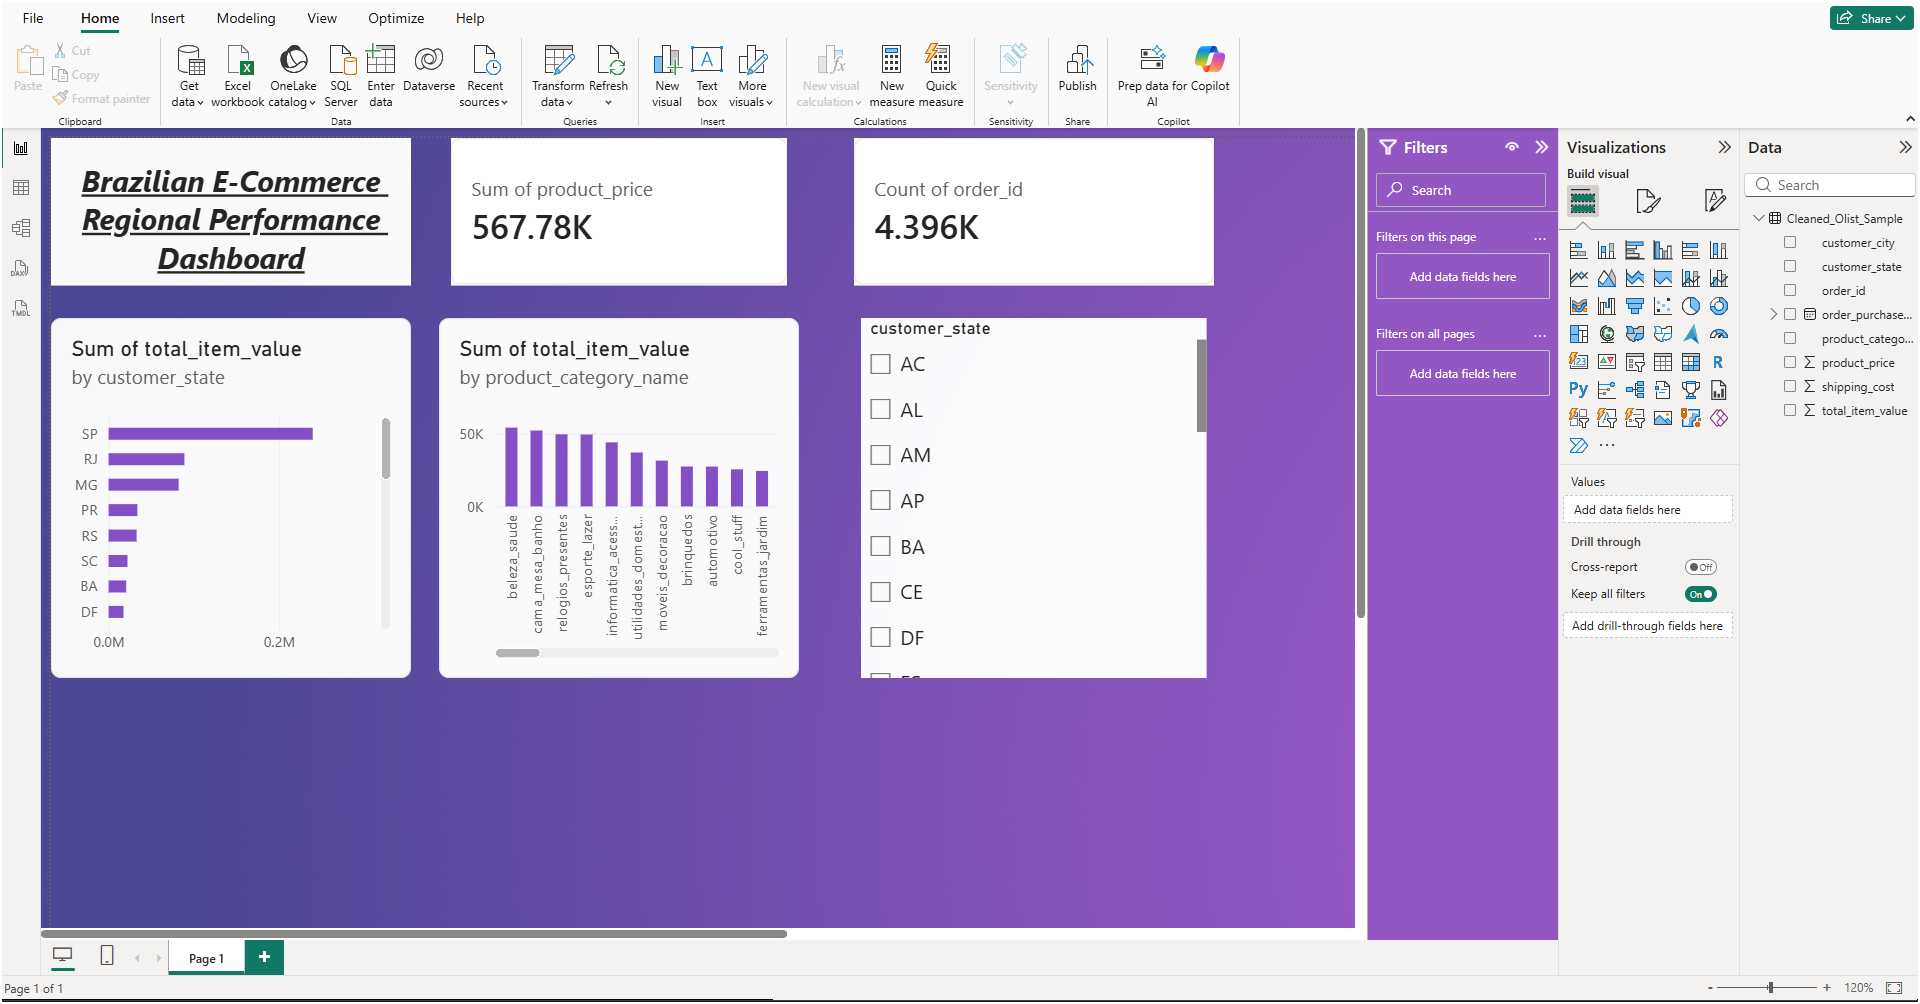

The page's visual inventory and layout, read from the dashboard file:
{"tool":"powerbi","page":{"name":"Page 1","canvas":[1920,1080],"ordinal":0},"visuals":[{"type":"cardVisual","fields":{"Data":["Sum(Cleaned_Olist_Sample.product_price)"]},"box":[485,0,280,150],"z":0},{"type":"cardVisual","fields":{"Data":["Count(Cleaned_Olist_Sample.order_id)"]},"box":[765,0,300,150],"z":1},{"type":"clusteredBarChart","fields":{"Category":["Cleaned_Olist_Sample.customer_state"],"Y":["Sum(Cleaned_Olist_Sample.total_item_value)"]},"box":[0,150,300,300],"z":2},{"type":"clusteredColumnChart","fields":{"Category":["Cleaned_Olist_Sample.product_category_name"],"Y":["Sum(Cleaned_Olist_Sample.total_item_value)"]},"box":[377.5,150,300,300],"z":3},{"type":"slicer","fields":{"Values":["Cleaned_Olist_Sample.customer_state"]},"box":[765,150,300,300],"z":4},{"type":"textbox","box":[0,0,510,87.8],"z":7}]}

Visuals, with their boxes on the page's 1920x1080 design canvas (x1, y1, x2, y2). These are canvas units, not pixel positions in the 1920x1004 screenshot, which may show the page scaled, cropped or inside an application window:
cardVisual - Sum(Cleaned_Olist_Sample.product_price): <box>485,0,765,150</box>
cardVisual - Count(Cleaned_Olist_Sample.order_id): <box>765,0,1065,150</box>
clusteredBarChart - Cleaned_Olist_Sample.customer_state x Sum(Cleaned_Olist_Sample.total_item_value): <box>0,150,300,450</box>
clusteredColumnChart - Cleaned_Olist_Sample.product_category_name x Sum(Cleaned_Olist_Sample.total_item_value): <box>378,150,678,450</box>
slicer - Cleaned_Olist_Sample.customer_state: <box>765,150,1065,450</box>
textbox: <box>0,0,510,88</box>
